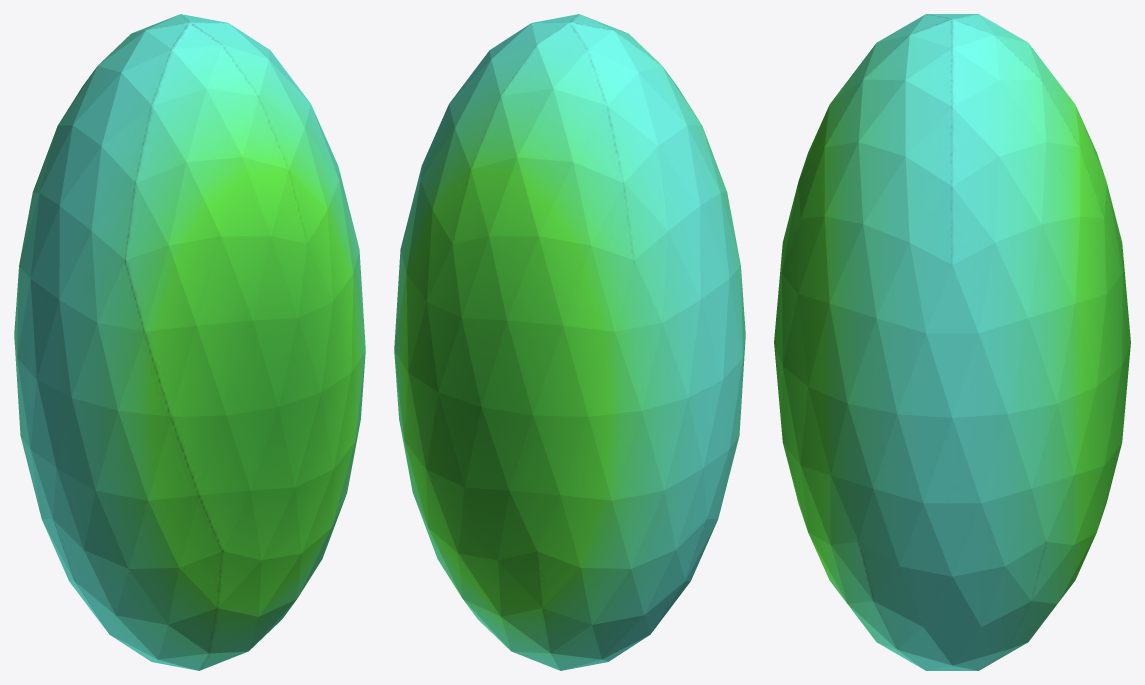
Rendered from IdkBerry.fbx.
3 renders of one model, left to right at view 1: azimuth 30°, elevation 25°; view 2: azimuth 150°, elevation 25°; view 3: azimuth 270°, elevation 25°, orthographic.
Parts seen in each view (by area): view 1: Icosphere; view 2: Icosphere; view 3: Icosphere.
Part boxes in pixels (<box>): Icosphere: <box>14,14,365,670</box>; Icosphere: <box>394,14,745,670</box>; Icosphere: <box>774,14,1130,670</box>.
Bounding box in the file's own units: 200 × 400 × 200.
1 material, 1 textured.
